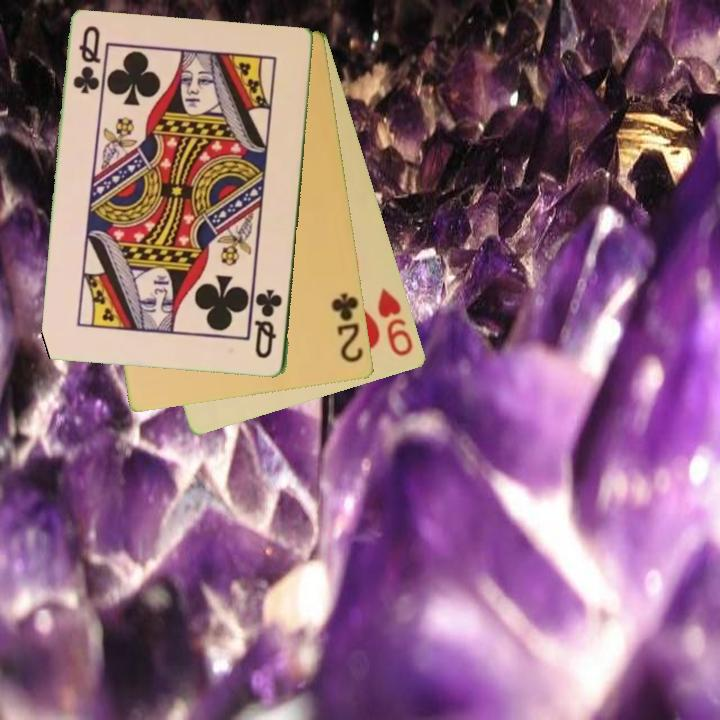2c: (328, 289, 367, 366)
9h: (374, 285, 417, 360)
Qc: (252, 286, 285, 362), (70, 23, 103, 98)
